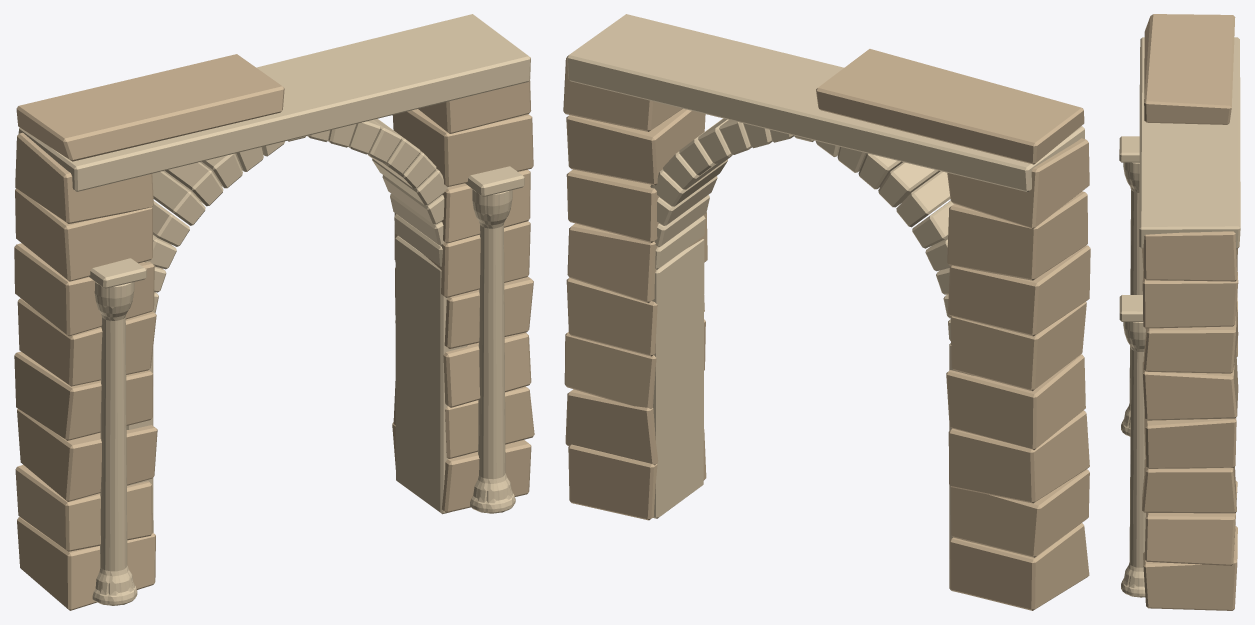
The model's file is gate.glb.
The picture shows the model from 3 angles, left to right: view 1: azimuth 30°, elevation 25°; view 2: azimuth 150°, elevation 25°; view 3: azimuth 270°, elevation 25°; orthographic projection. The views are drawn at different scales.
Visible parts, largest first — view 1: gate_stone, gate_trim; view 2: gate_stone, gate_trim; view 3: gate_stone, gate_trim.
Part boxes in pixels (x1,y1,x2,y2): gate_stone: (14, 54, 534, 610); gate_trim: (18, 14, 530, 605); gate_stone: (563, 49, 1090, 610); gate_trim: (567, 14, 1084, 592); gate_stone: (1142, 14, 1238, 610); gate_trim: (1119, 37, 1240, 597).
Size of the model in its own units: 14.43 by 13.85 by 3.74.
